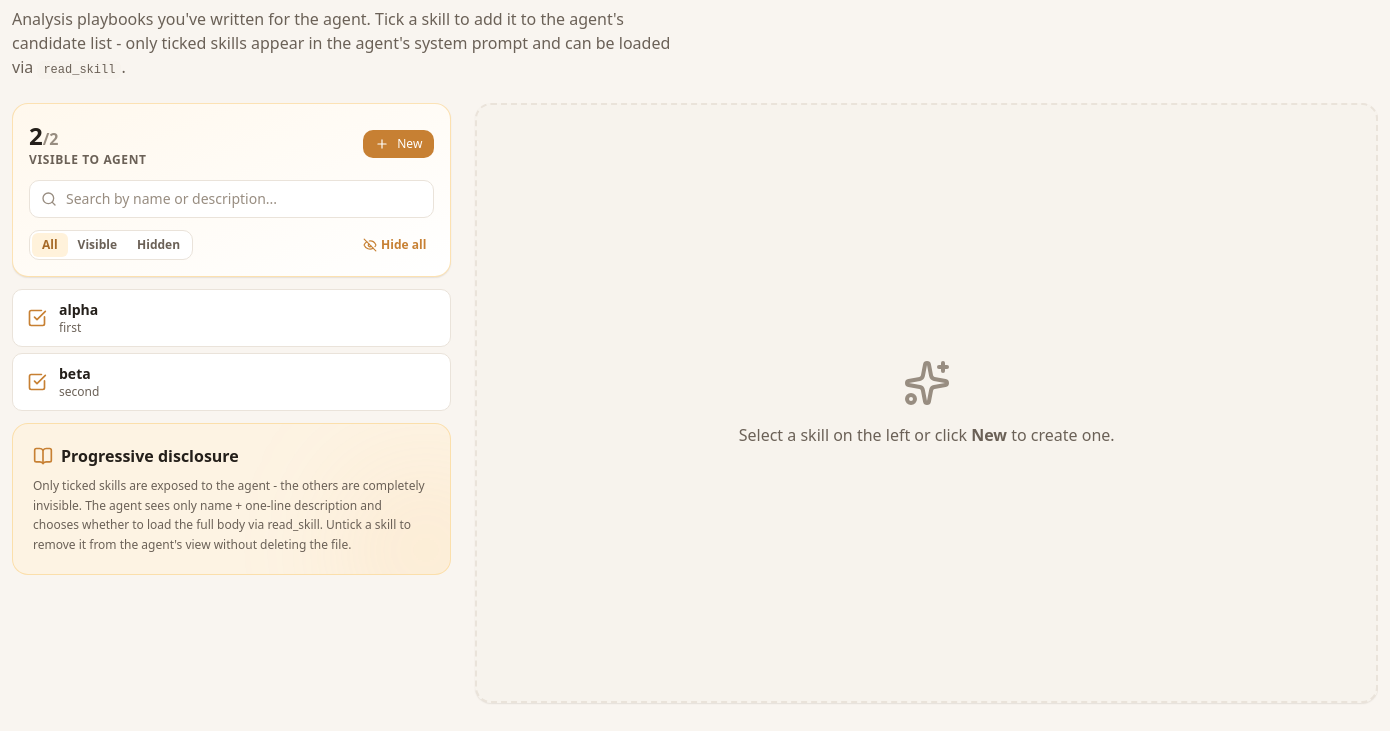
Test: Skills › does not prompt when nothing was edited
Click the text "alpha" at (79, 310), box x1=59 y1=300 x2=98 y2=319
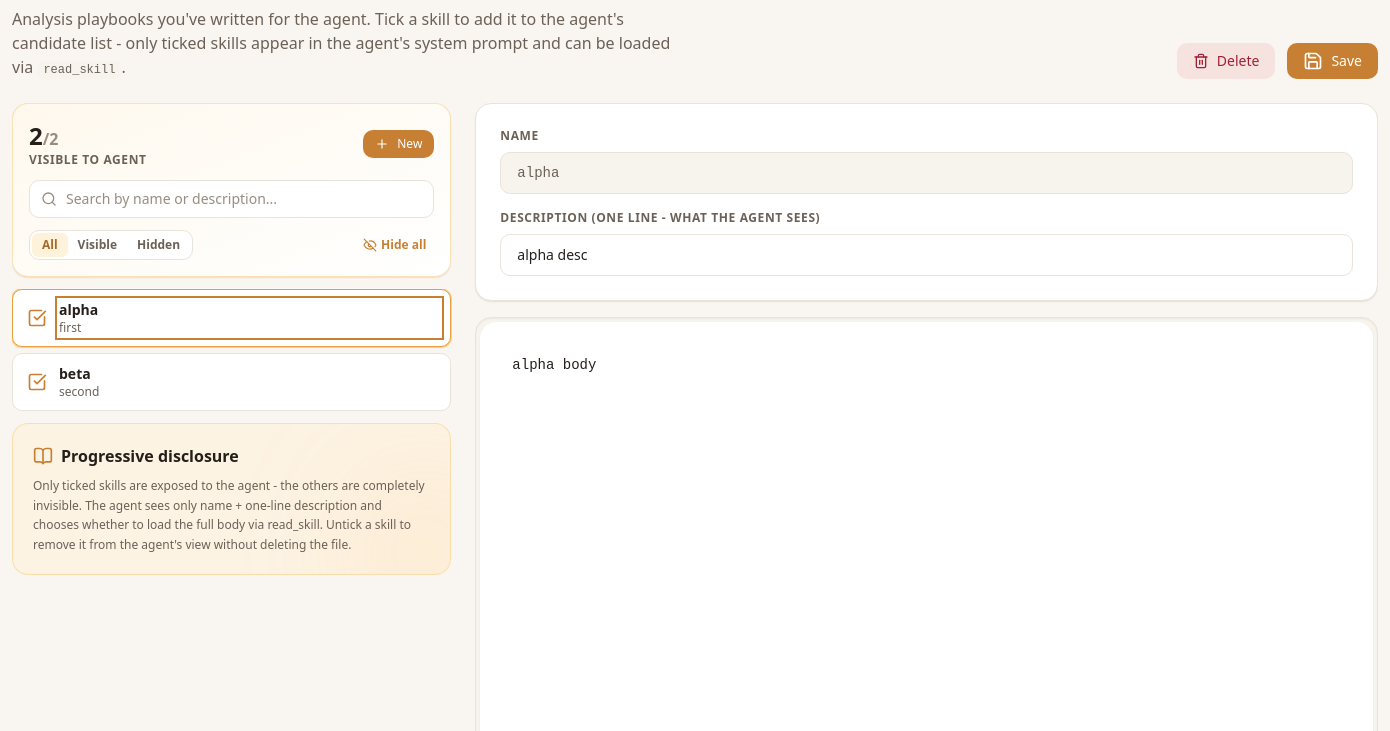
Click the text "beta" at (75, 374), box x1=59 y1=364 x2=91 y2=383
(page scrolled)
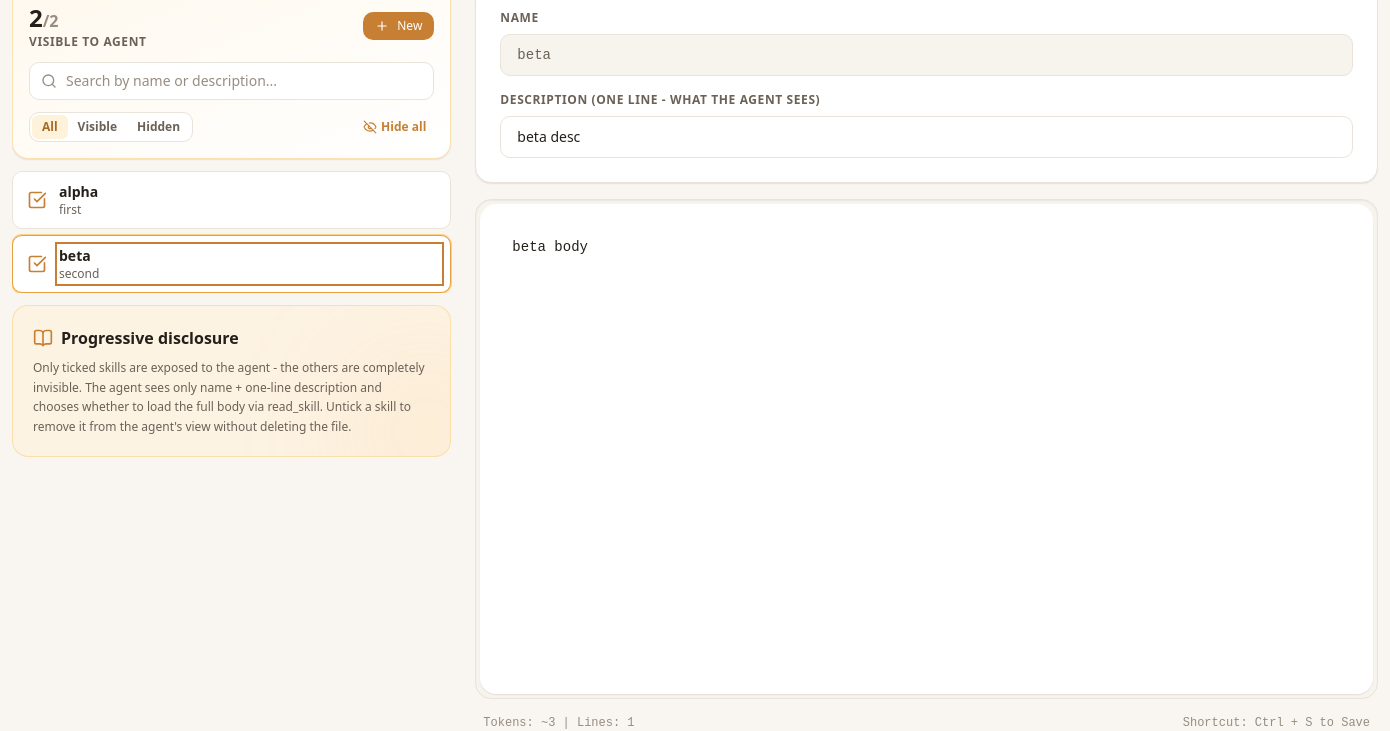
Expected: the text box named "Playbook body" holds "beta body", x1=480 y1=204 x2=1373 y2=694
